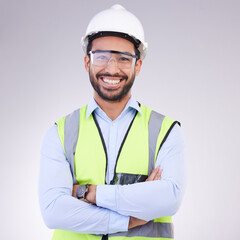young: (68, 4, 155, 101)
